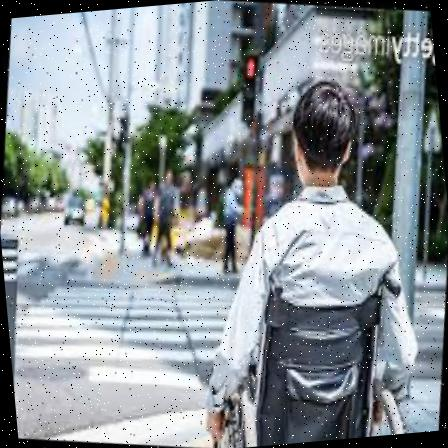wheel: (171, 54, 447, 447)
